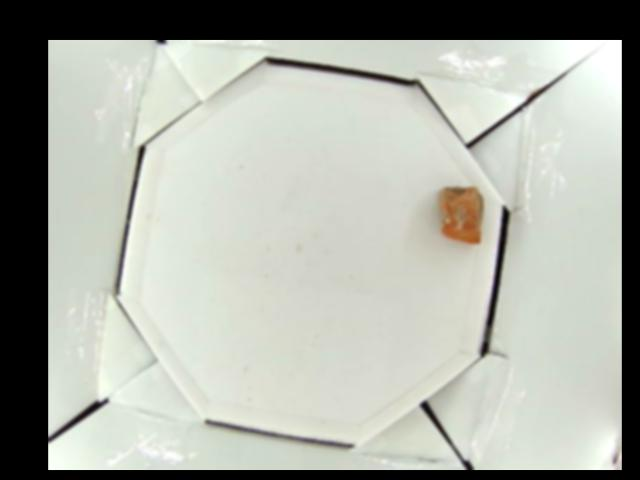Brisk: (437, 186, 483, 245)
